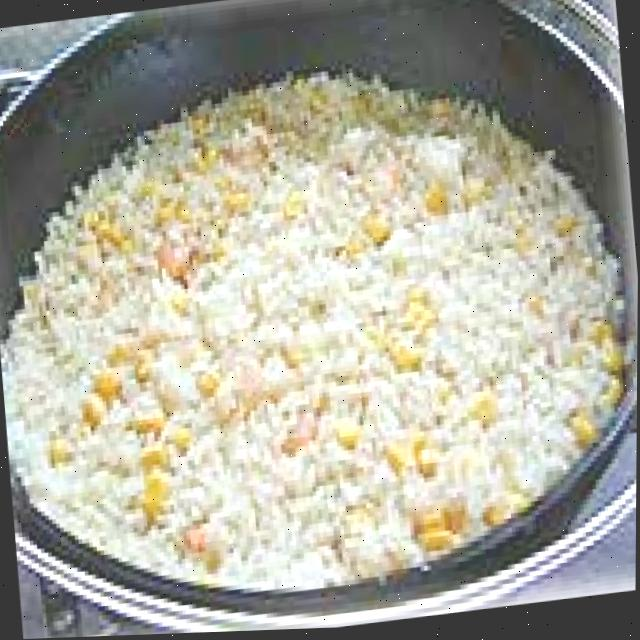米饭主食: (0, 0, 640, 633)
